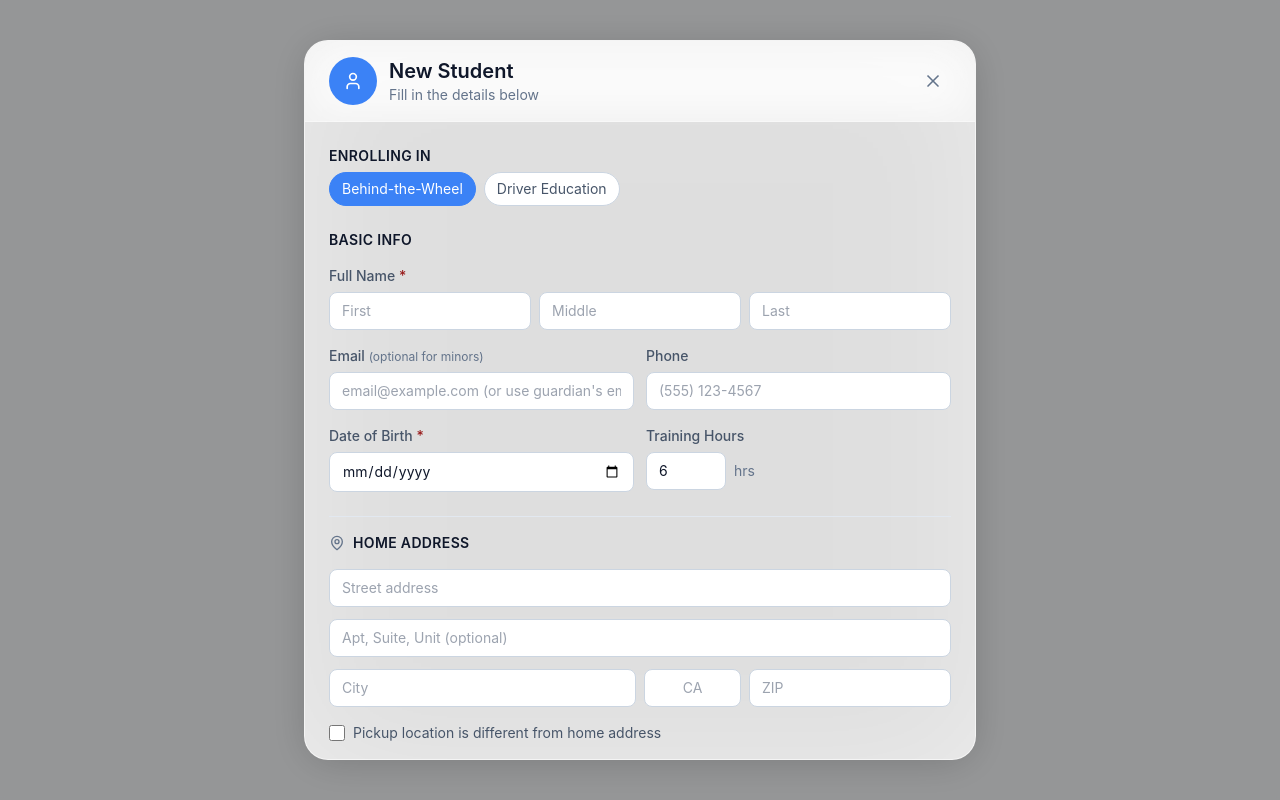
Test: StudentModal - program-aware create-success block › driver_education creation with NO cohort selected shows "Go to Classroom", not "Book Lesson"
Click the button "Driver Education".
click(552, 189)  # box [484,172,620,206]
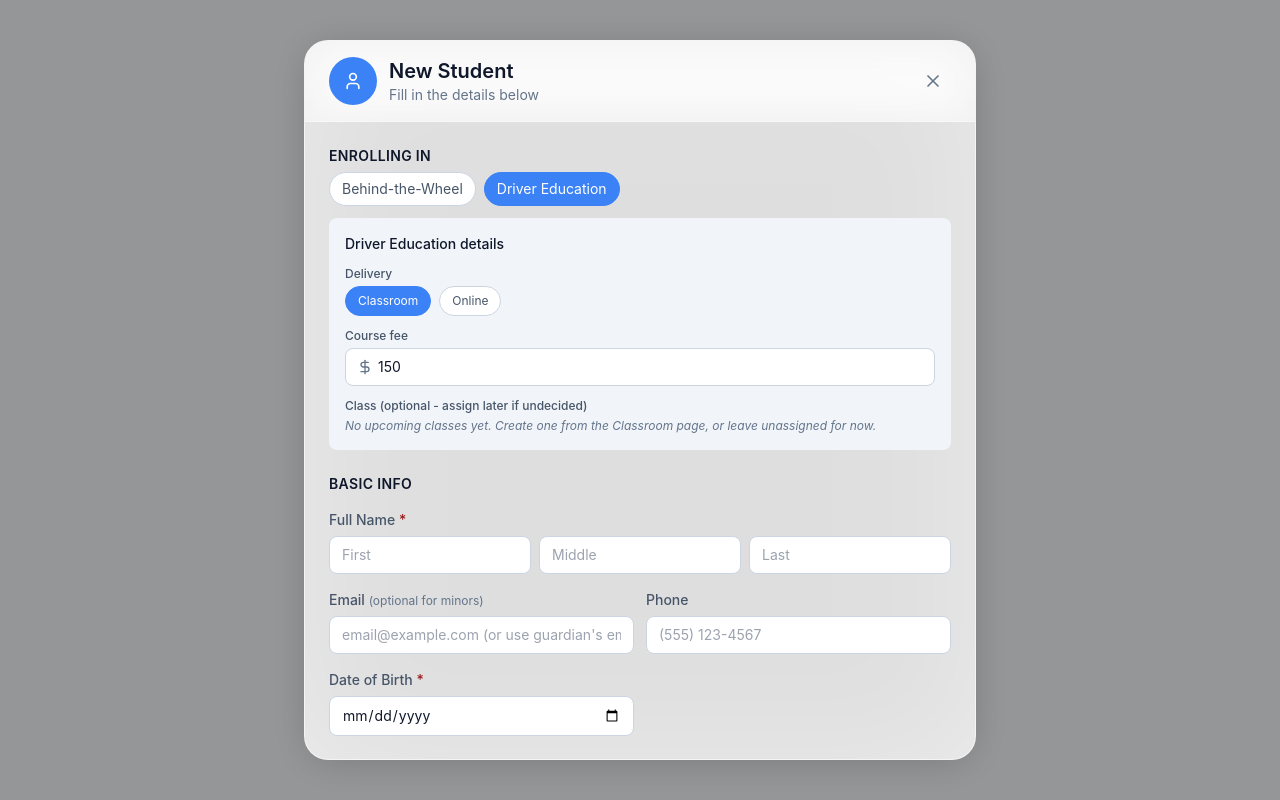
Click the button "online".
click(470, 301)  # box [439,286,502,316]
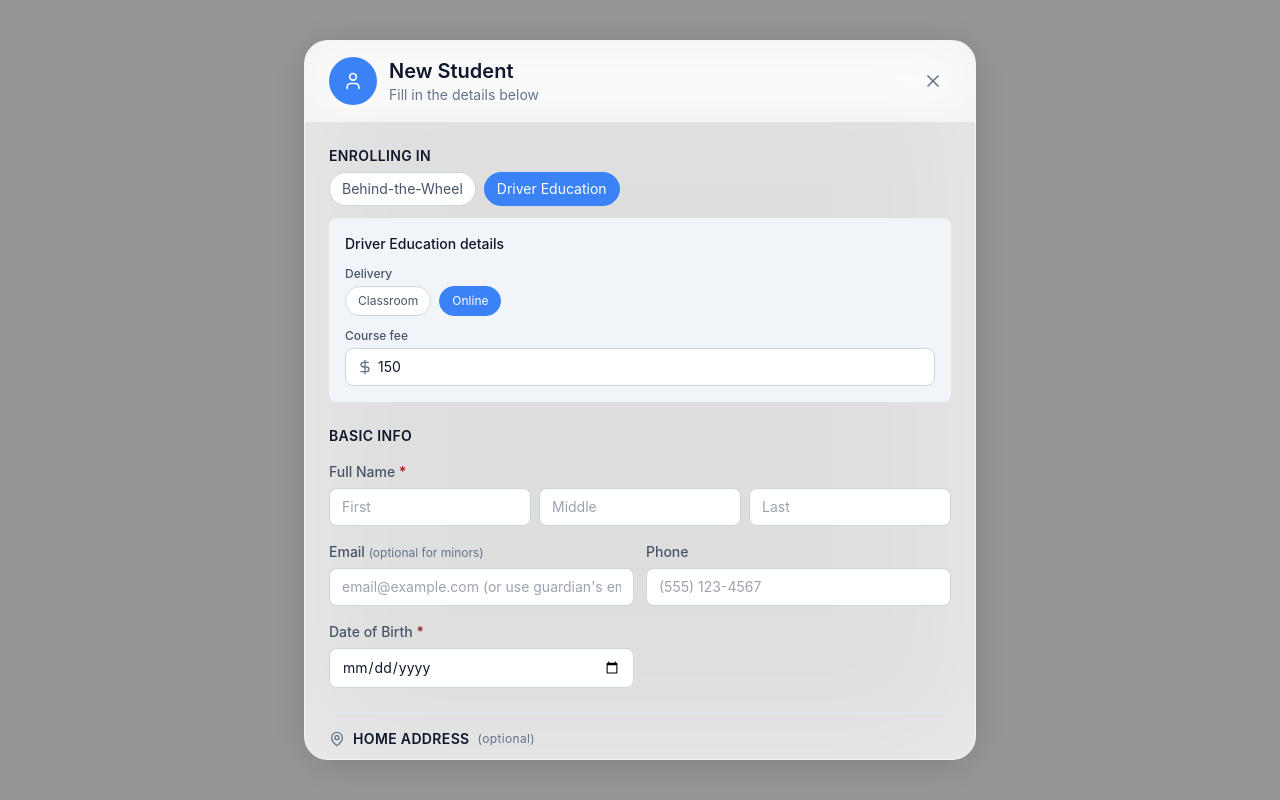
Type "Adult" into the field with placeholder "First".
click(430, 507); type("Adult")  # box [329,488,531,526]
Type "Student" into the field with placeholder "Last".
click(850, 507); type("Student")  # box [749,488,951,526]
Type "adult.student@example.com" into the field with placeholder "email@example.com (or use guardian's email below)".
click(482, 587); type("adult.student@example.com")  # box [329,568,634,606]
(page scrolled)
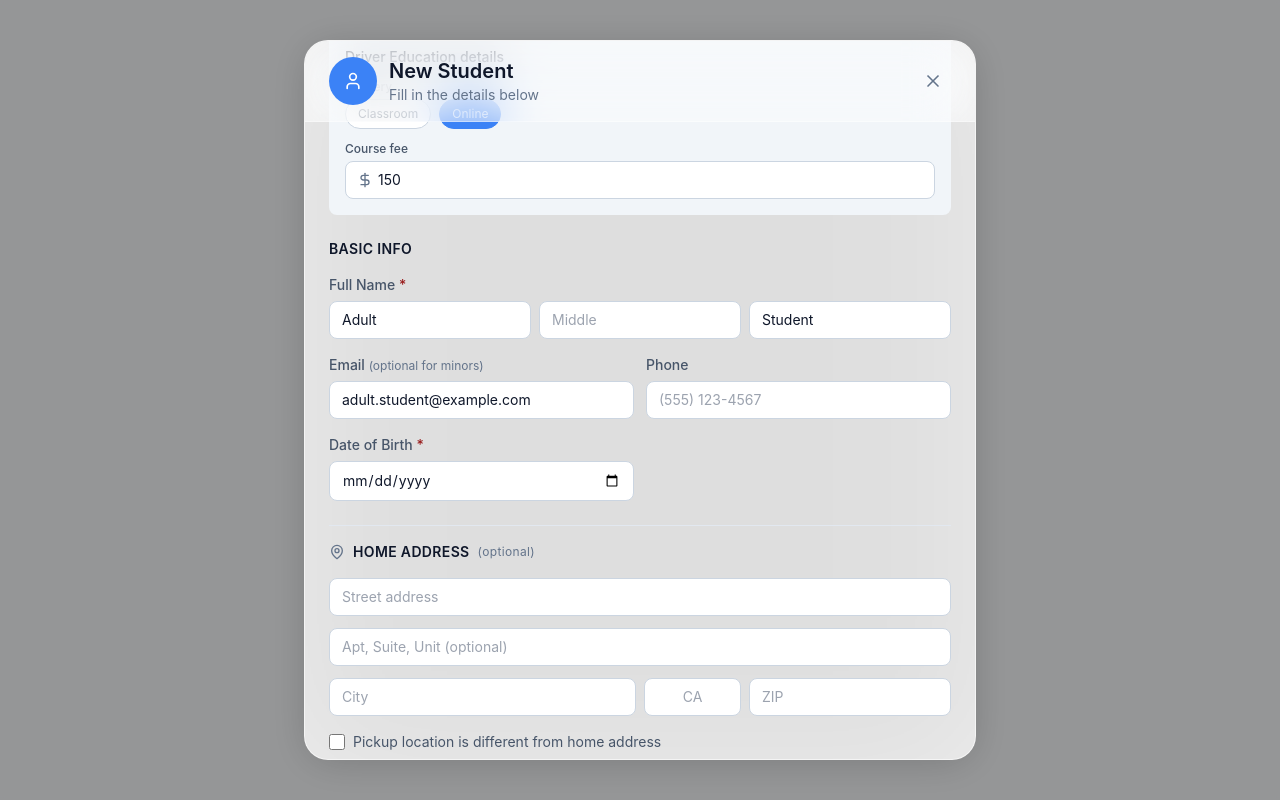
Type "5550100" into the field with placeholder "(555) 123-4567".
click(798, 400); type("5550100")  # box [646,381,951,419]
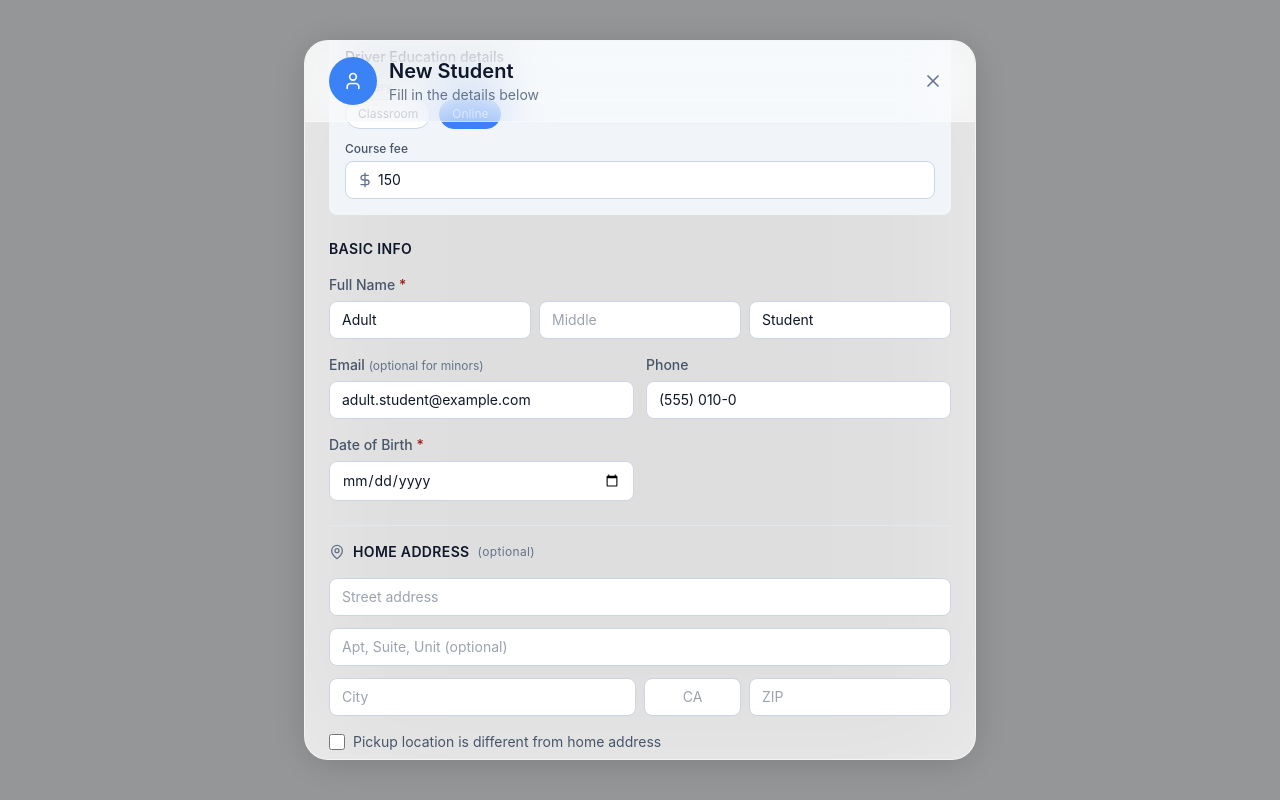
Type "1990-01-01" into the date field titled "Date of Birth".
click(482, 481); type("1990-01-01")  # box [329,461,634,501]
(page scrolled)
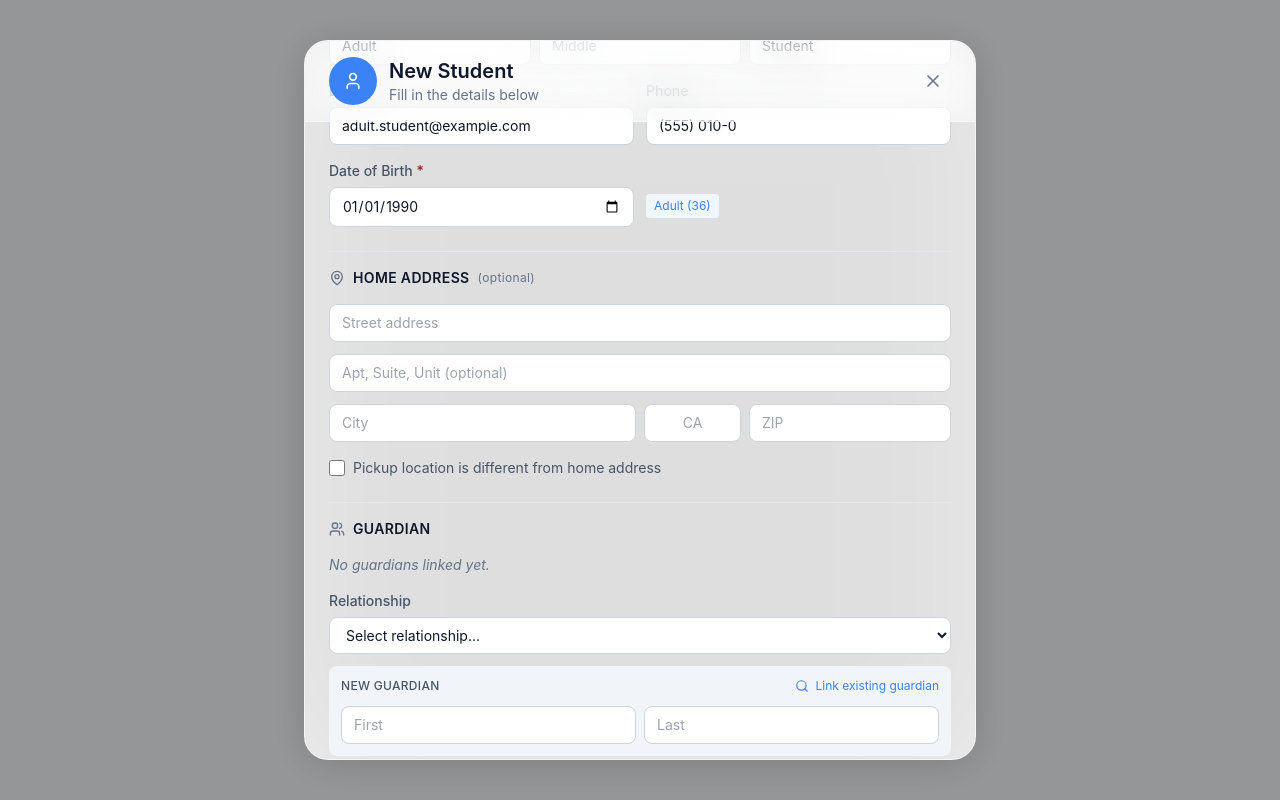
Submit the form titled "Date of Birth"
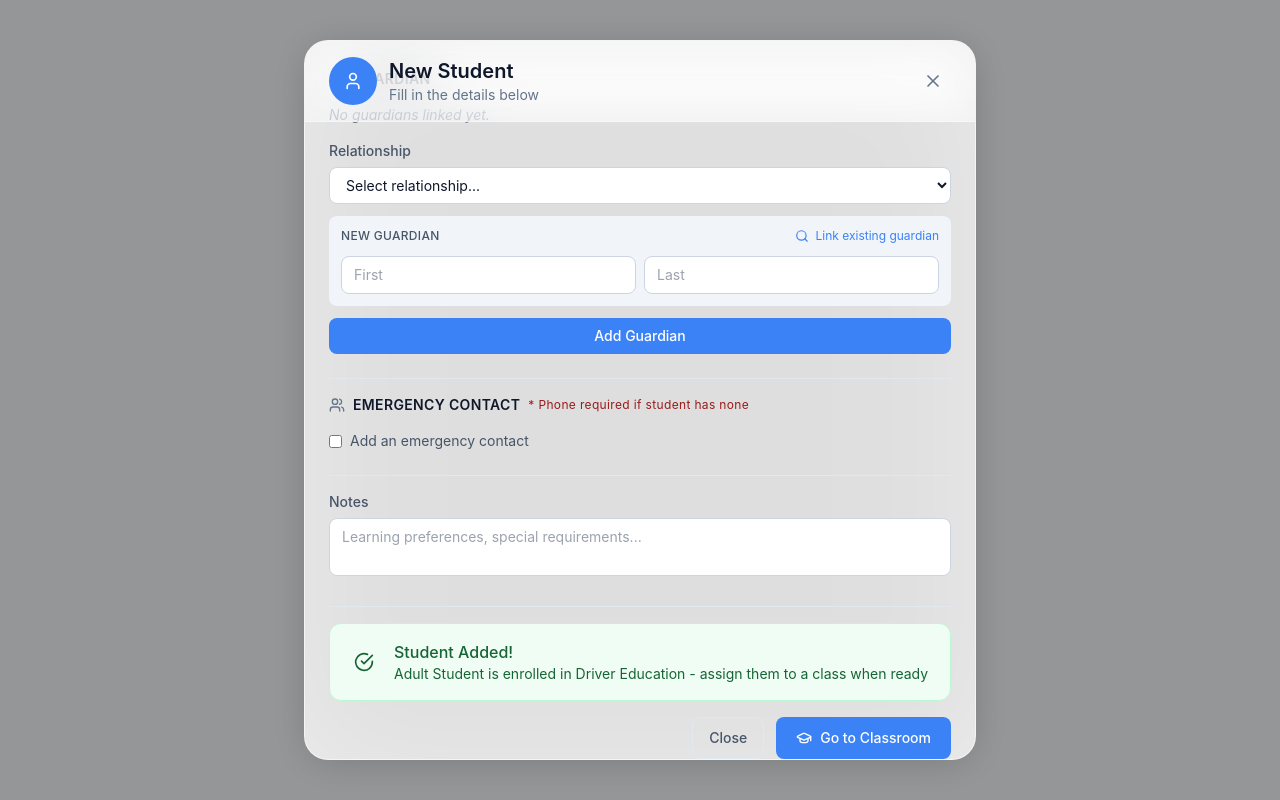
Now the text "Student Added!" is shown, box [394,642,513,662]
Now the text "adult student is enrolled in driver education - assign them to a class when ready" is shown, box [394,665,928,682]
Now the button "Go to Classroom" is shown, box [776,717,951,759]
